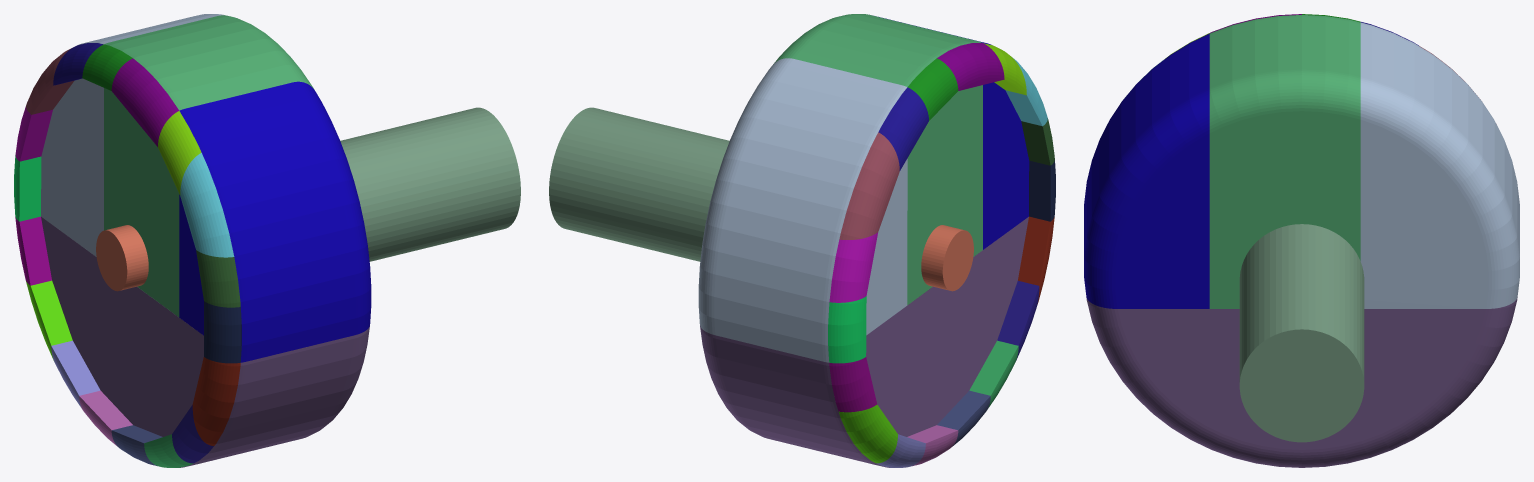
Rendered from 4_canonical.obj.
The picture shows the model from 3 angles, left to right: view 1: azimuth 30°, elevation 25°; view 2: azimuth 150°, elevation 25°; view 3: azimuth 270°, elevation 25°; orthographic projection.
Parts seen in each view (by area): view 1: geometry_5, geometry_1, geometry_3, geometry_0, geometry_6, geometry_2, geometry_15, geometry_11, geometry_9, geometry_21, geometry_19, geometry_4 (+12 smaller); view 2: geometry_6, geometry_1, geometry_0, geometry_3, geometry_5, geometry_13, geometry_9, geometry_22, geometry_23, geometry_17, geometry_20, geometry_11 (+12 smaller); view 3: geometry_6, geometry_1, geometry_3, geometry_5, geometry_0.
Boxes of the visible parts, left/top/right/bottom form: geometry_5: left=179, top=81, right=371, bottom=362; geometry_1: left=41, top=217, right=369, bottom=467; geometry_3: left=104, top=15, right=314, bottom=317; geometry_0: left=340, top=107, right=520, bottom=261; geometry_6: left=41, top=14, right=224, bottom=256; geometry_2: left=180, top=153, right=234, bottom=257; geometry_15: left=192, top=357, right=240, bottom=445; geometry_11: left=111, top=58, right=179, bottom=146; geometry_9: left=96, top=225, right=148, bottom=291; geometry_21: left=204, top=301, right=241, bottom=363; geometry_19: left=196, top=250, right=240, bottom=307; geometry_4: left=158, top=111, right=201, bottom=195; geometry_6: left=698, top=58, right=907, bottom=362; geometry_1: left=700, top=217, right=1028, bottom=467; geometry_0: left=549, top=107, right=729, bottom=261; geometry_3: left=773, top=14, right=982, bottom=304; geometry_5: left=878, top=16, right=1029, bottom=249; geometry_13: left=839, top=132, right=899, bottom=239; geometry_9: left=921, top=225, right=973, bottom=291; geometry_22: left=829, top=232, right=877, bottom=302; geometry_23: left=828, top=296, right=866, bottom=363; geometry_17: left=839, top=404, right=897, bottom=463; geometry_20: left=878, top=87, right=928, bottom=170; geometry_11: left=937, top=43, right=1004, bottom=90; geometry_6: left=1360, top=22, right=1519, bottom=308; geometry_1: left=1086, top=297, right=1517, bottom=467; geometry_3: left=1209, top=15, right=1360, bottom=308; geometry_5: left=1084, top=33, right=1209, bottom=308; geometry_0: left=1239, top=224, right=1364, bottom=442.
Bounding box in the file's own units: 0.035 × 0.035 × 0.0349.
